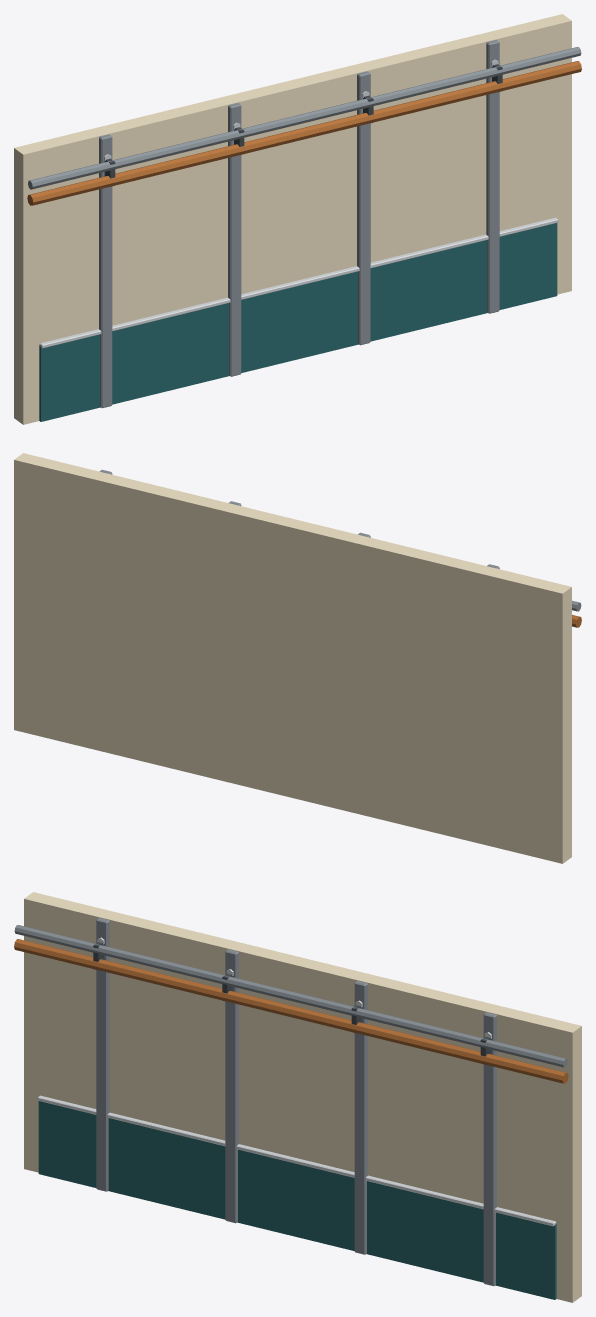
Rendered from Kit_WallBack.fbx.
The picture shows the model from 3 angles, top to bottom: view 1: azimuth 30°, elevation 25°; view 2: azimuth 150°, elevation 25°; view 3: azimuth 330°, elevation 25°; orthographic projection.
Parts seen in each view (by area): view 1: BackWall, Decor; view 2: BackWall; view 3: BackWall, Decor.
Boxes of the visible parts, left/top/right/bottom form: BackWall: left=14, top=14, right=571, bottom=424; Decor: left=27, top=40, right=581, bottom=421; BackWall: left=14, top=453, right=571, bottom=863; BackWall: left=24, top=892, right=581, bottom=1302; Decor: left=14, top=918, right=568, bottom=1299.
Bounding box in the file's own units: 34 × 16 × 2.07.
